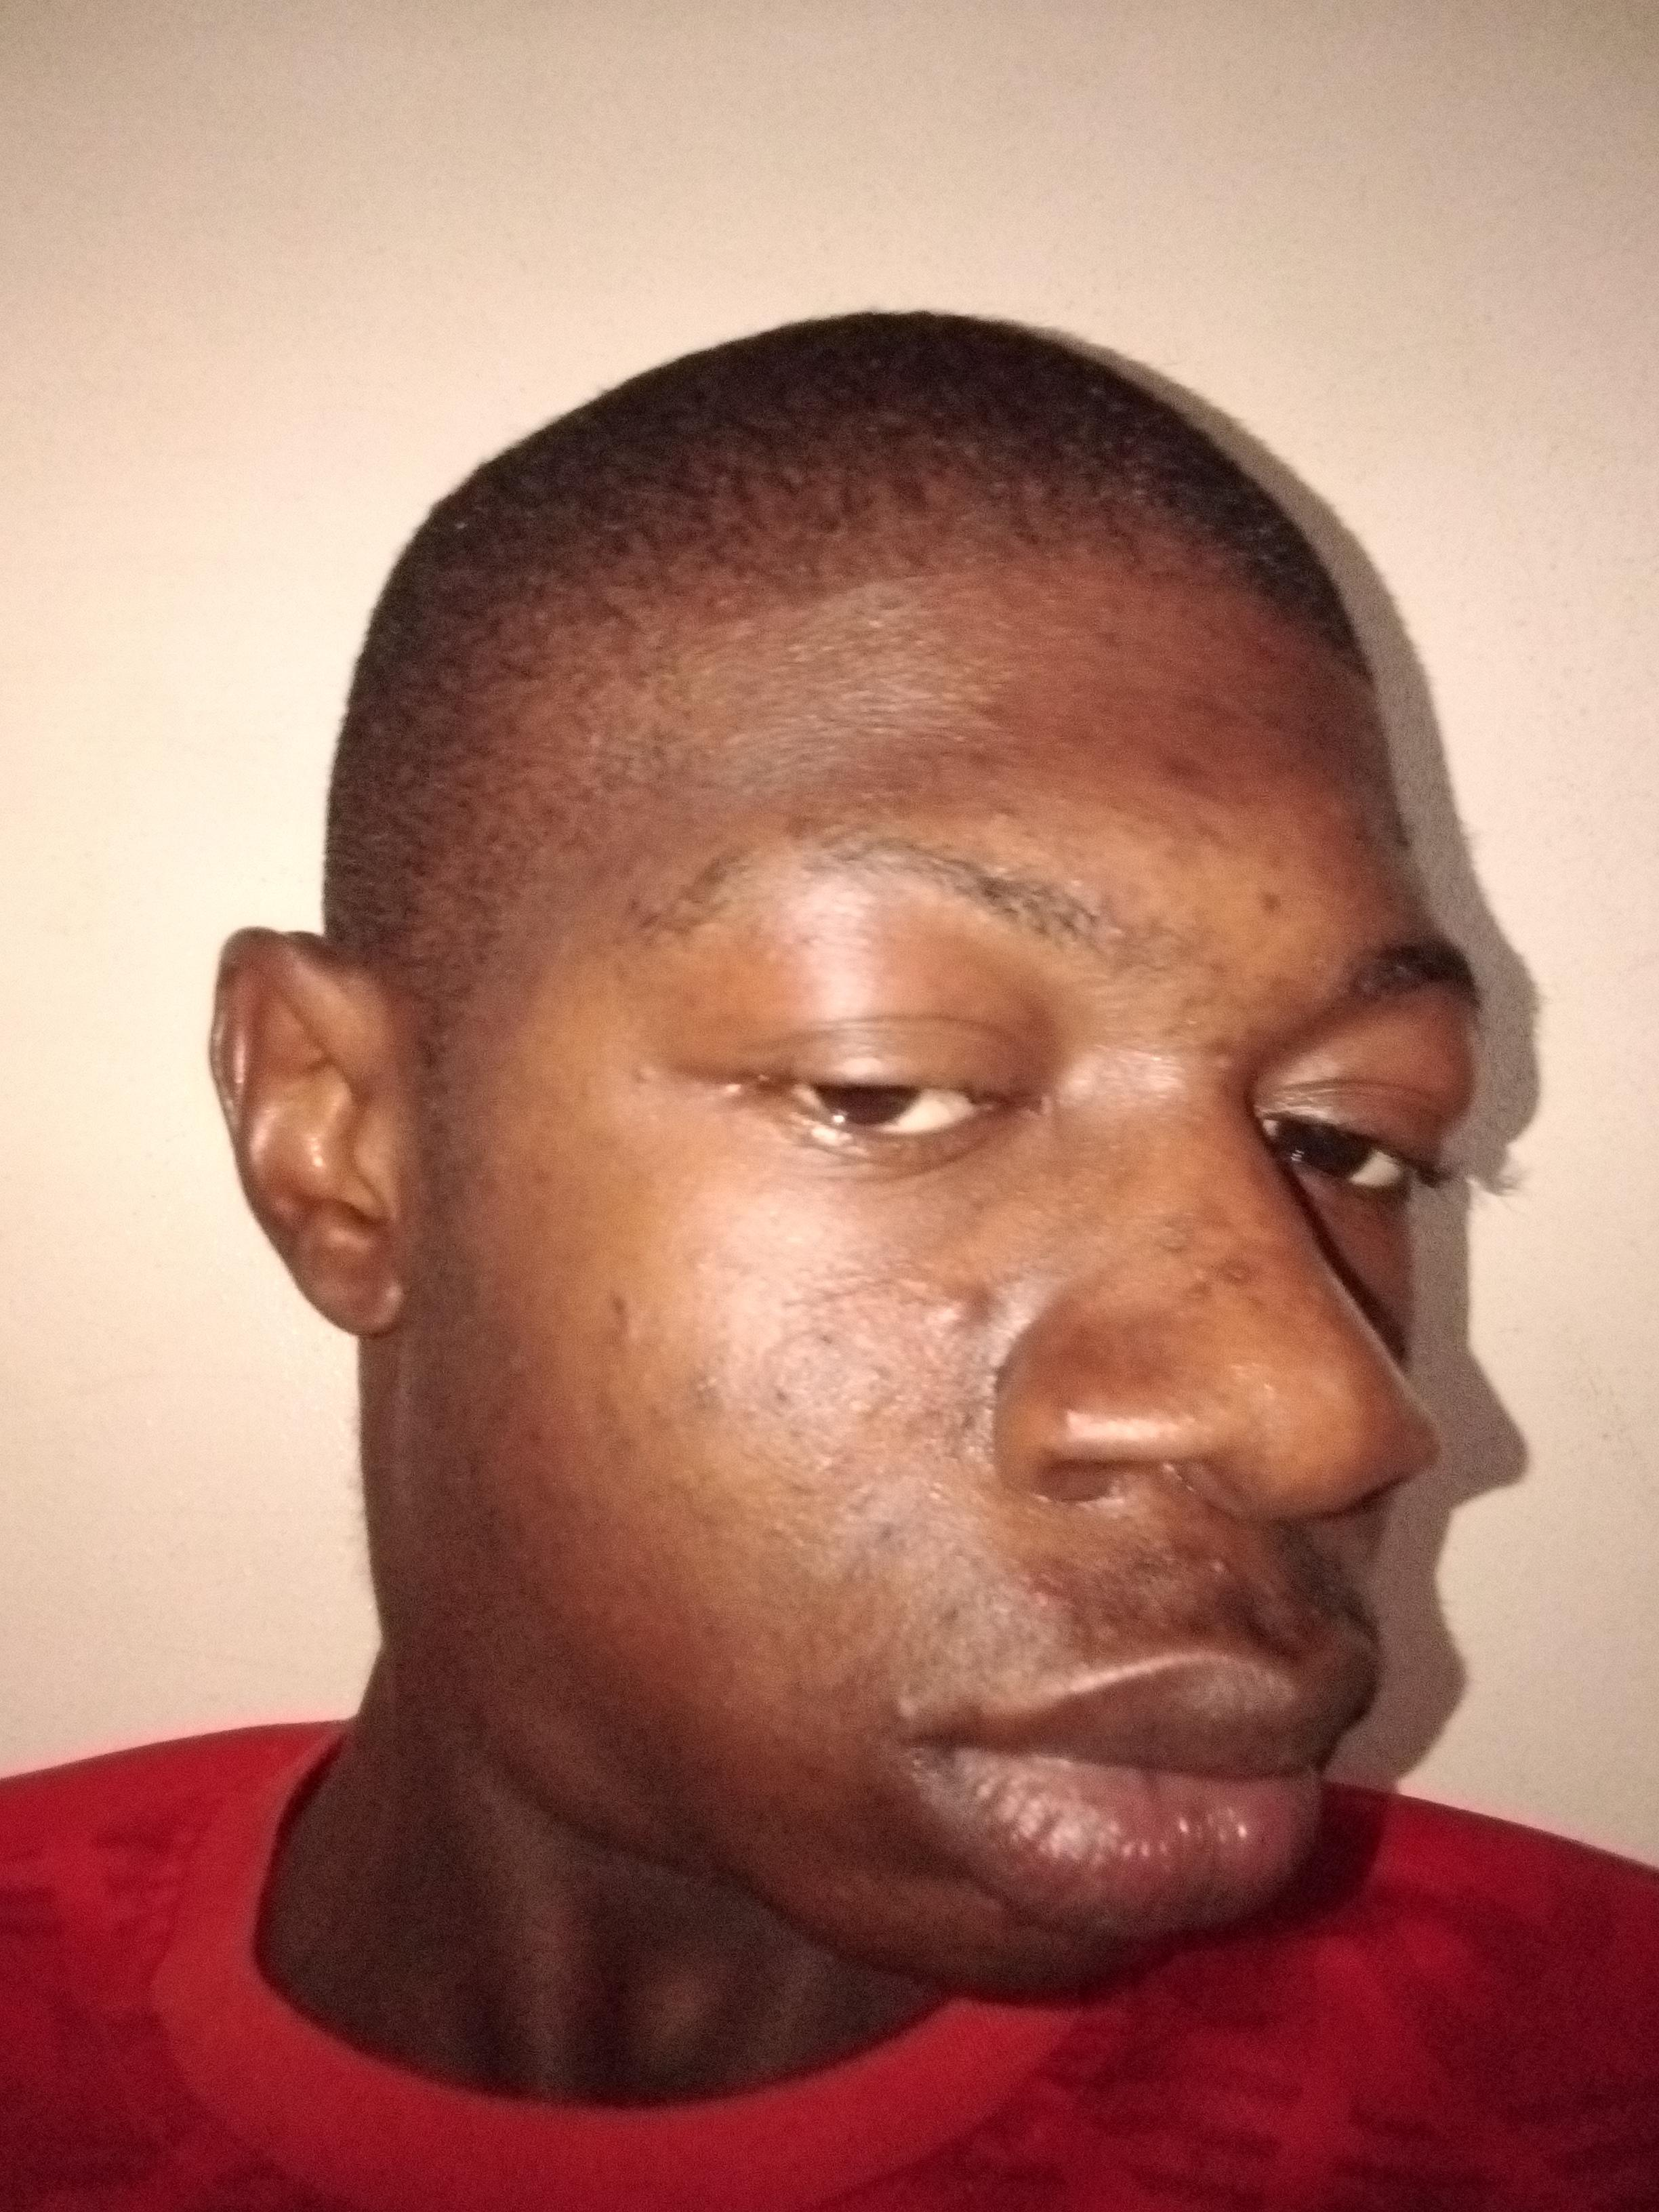Acne: (1115, 806, 1236, 874), (1134, 737, 1229, 808), (920, 1275, 999, 1350), (950, 681, 1011, 775), (1148, 1197, 1236, 1259), (1171, 1256, 1258, 1310), (1201, 951, 1305, 993), (1014, 1557, 1080, 1615), (877, 1683, 934, 1735), (599, 1287, 645, 1350), (683, 1364, 725, 1425), (1190, 1017, 1234, 1073), (924, 1594, 972, 1641), (1087, 613, 1127, 657), (1253, 888, 1297, 923), (620, 1055, 666, 1087), (990, 799, 1032, 833), (1209, 1552, 1251, 1581)
Blackheads: (884, 1364, 988, 1461), (756, 1327, 850, 1416), (829, 1472, 904, 1552)
